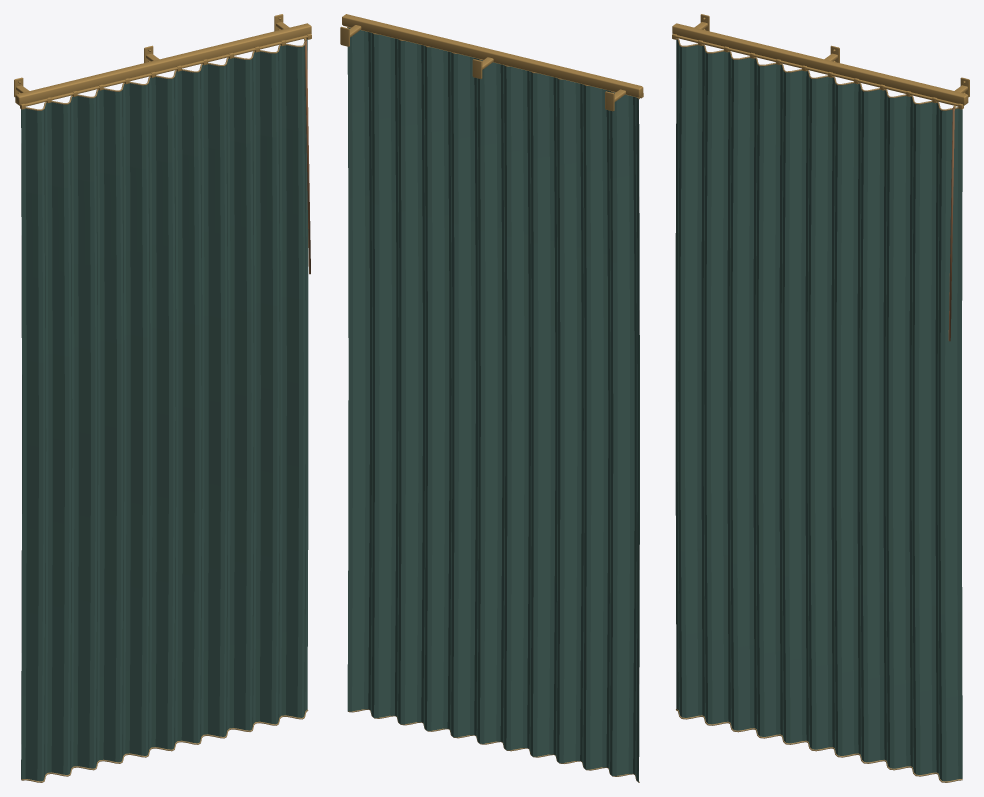
File: rpg-mansion-full-height-traverse-drape-01.glb
The picture shows the model from 3 angles, left to right: view 1: azimuth 30°, elevation 25°; view 2: azimuth 150°, elevation 25°; view 3: azimuth 330°, elevation 25°; orthographic projection.
Parts seen in each view (by area): view 1: rpg-mansion-full-height-traverse-drape-01; view 2: rpg-mansion-full-height-traverse-drape-01; view 3: rpg-mansion-full-height-traverse-drape-01.
Part boxes in pixels (x1,y1,x2,y2): rpg-mansion-full-height-traverse-drape-01: [14, 14, 311, 782]; rpg-mansion-full-height-traverse-drape-01: [340, 14, 643, 782]; rpg-mansion-full-height-traverse-drape-01: [672, 14, 969, 782].
Bounding box in the file's own units: 1.24 × 2.78 × 0.1847.
